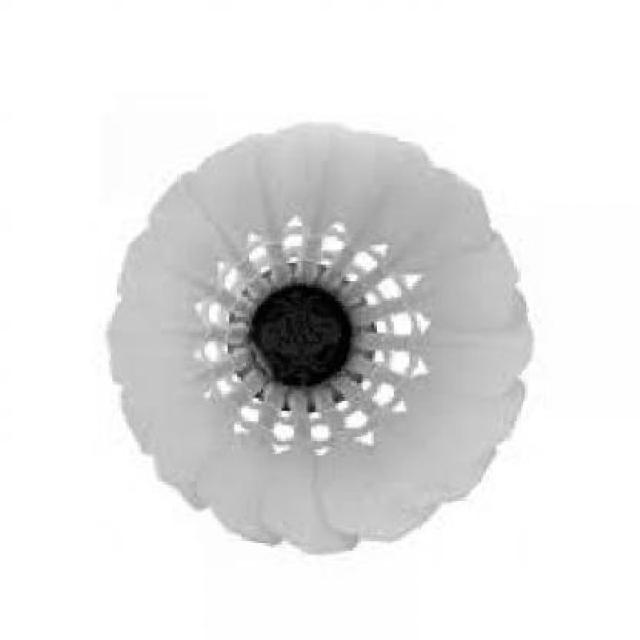Shuttlecock: (98, 111, 540, 560)
